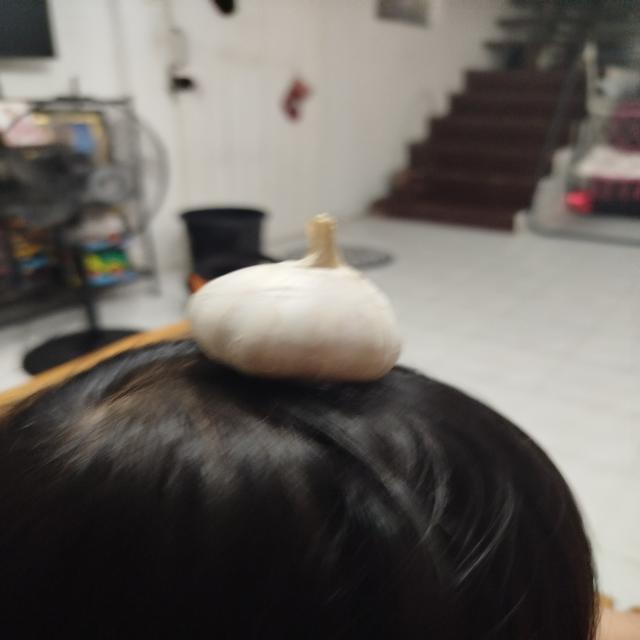garlic: (185, 212, 404, 383)
